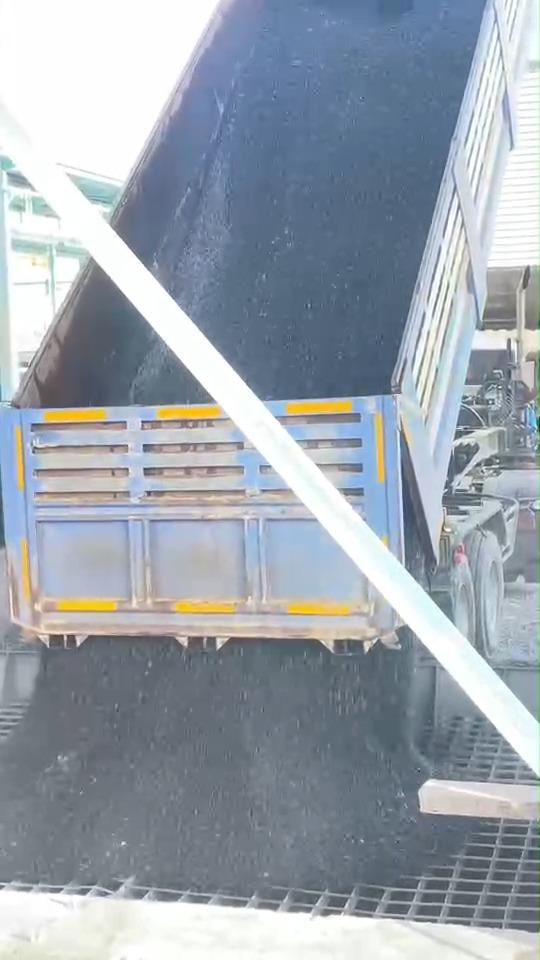gravel: (154, 0, 486, 399), (0, 639, 459, 890), (129, 328, 202, 400)
